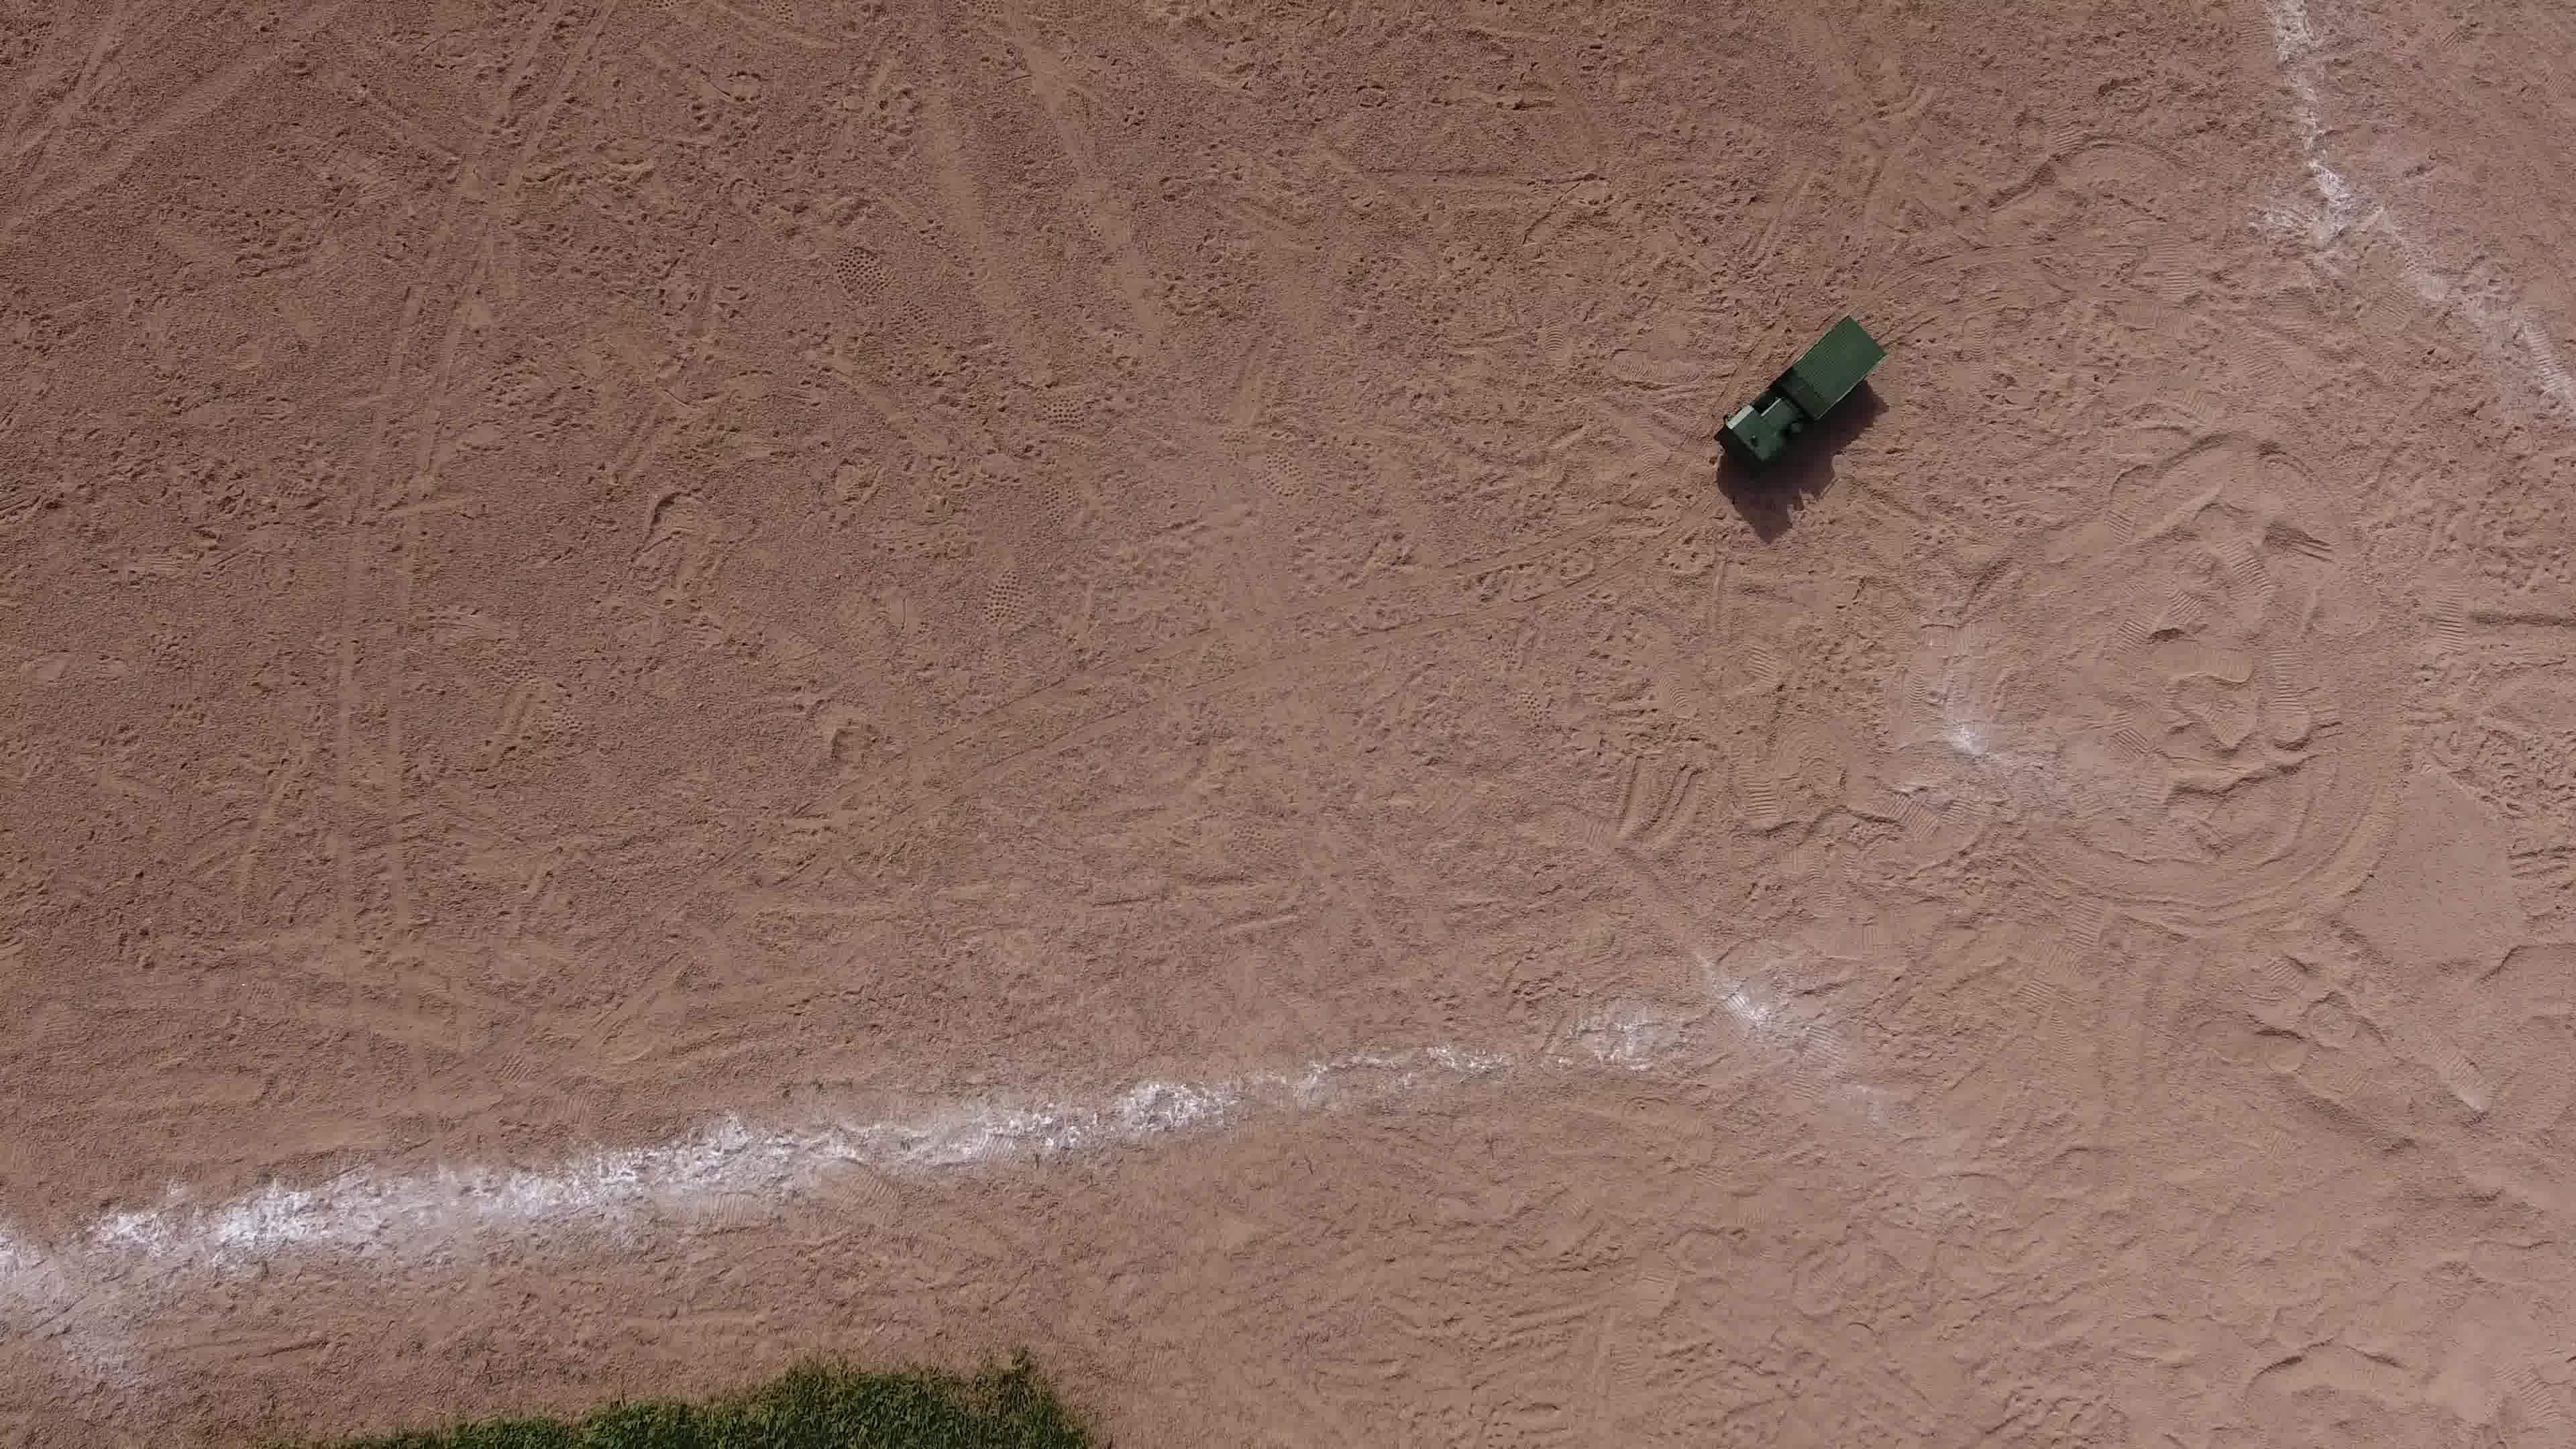transporter9: (1697, 306, 1895, 488)
